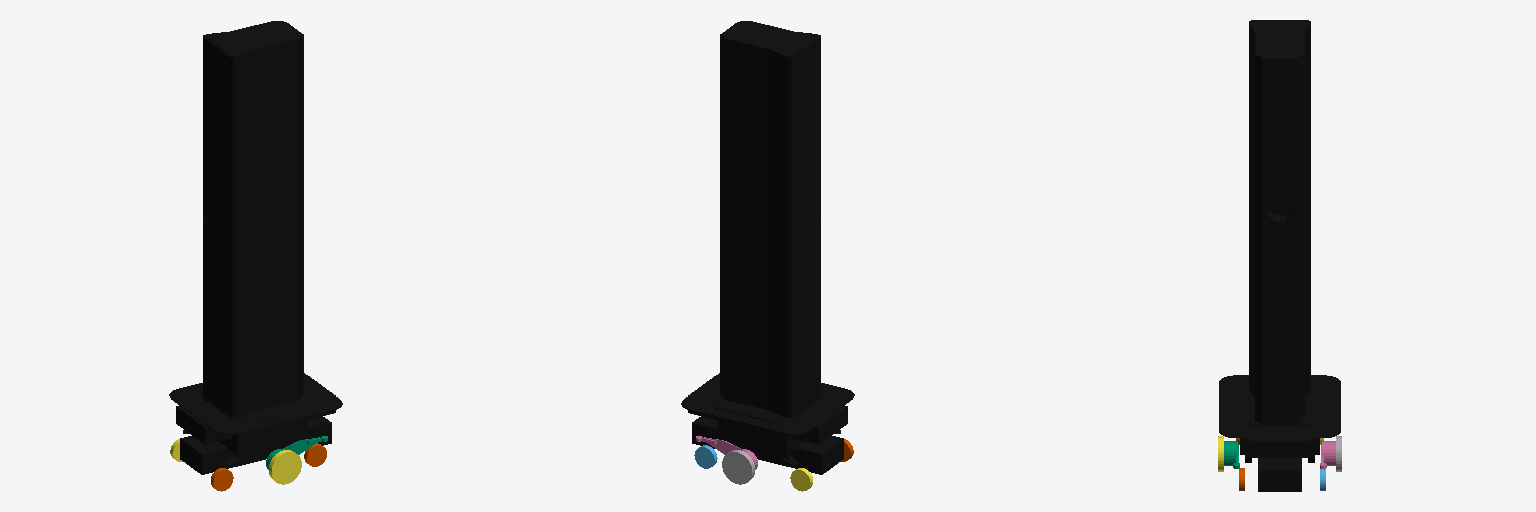
--- Facts derived from the render (not from the file) ---
Views: 3 orthographic renders of the robot side by side, from view 1: azimuth 30°, elevation 25°; view 2: azimuth 150°, elevation 25°; view 3: azimuth 270°, elevation 25°.
Model rb_theron with 34 links and 33 joints (2 revolute, 10 continuous, 21 fixed), rooted at robot_base_footprint, posed all joints at 0.
Visible links, largest first — view 1: robot_pole_link, robot_base_link, robot_right_wheel_link; view 2: robot_pole_link, robot_base_link, robot_left_wheel_link; view 3: robot_pole_link, robot_base_link.
Link boxes in pixels (x1=…): robot_pole_link: x1=199, y1=21, x2=312, y2=423; robot_base_link: x1=169, y1=373, x2=342, y2=474; robot_right_wheel_link: x1=269, y1=450, x2=301, y2=484; robot_pole_link: x1=711, y1=21, x2=824, y2=423; robot_base_link: x1=681, y1=373, x2=854, y2=474; robot_left_wheel_link: x1=722, y1=450, x2=754, y2=484; robot_pole_link: x1=1234, y1=20, x2=1325, y2=425; robot_base_link: x1=1219, y1=375, x2=1340, y2=491.
Bounding box of the posed robot: 0.649 × 0.528 × 2.01 m (x, y, z).
Meshes: 9 distinct files referenced, 4 mesh visuals loaded (2 binary STL, 2 Collada DAE); not drawn: 8 (reference not matched to a file when rendering).

URDF robot description (rb_theron):
<?xml version="1.0" encoding="utf-8"?>
<!-- =================================================================================== -->
<!-- |    This document was autogenerated by xacro from rb_theron_mcq.urdf.xacro       | -->
<!-- |    EDITING THIS FILE BY HAND IS NOT RECOMMENDED                                 | -->
<!-- =================================================================================== -->
<robot name="rb_theron">
  <!-- ***************** -->
  <!-- Imported elements -->
  <!-- ***************** -->
  <!-- First we import all posible elements defined in the urdf.xacro files. All these elements are defined as macro:xacros -->
  <!-- in kg-->
  <!-- in kg-->
  <!-- in kg-->
  <!-- in kg-->
  <!-- in kg-->
  <!-- in kg-->
  <!-- in kg-->
  <!-- source en.wikipedia.org/wiki/List_of_moments_of_inertia-->
  <!-- This file unifies all sensors that can be used on simulation, defined as xacro:macros -->
  <!-- Includes -->
  <!-- *************** -->
  <!-- Robots Elements -->
  <!-- *************** -->
  <!-- Here we create the robot elements using the xacro:macros imported at the beggining of this file -->
  <!-- this property is for the chassis -->
  <!-- xacro:property name="wheel_width" value="0.150" / -->
  <link name="robot_base_footprint">
    <visual>
      <origin rpy="0 0 0" xyz="0 0 0"/>
      <geometry>
        <box size="0.001 0.001 0.001"/>
      </geometry>
    </visual>
  </link>
  <joint name="robot_base_footprint_joint" type="fixed">
    <origin rpy="0 0 0" xyz="0 0 0.0606"/>
    <parent link="robot_base_footprint"/>
    <child link="robot_base_link"/>
  </joint>
  <!-- BASE_LINK -->
  <link name="robot_base_link">
    <inertial>
      <mass value="50.0"/>
      <origin xyz="-0.120 0 0"/>
      <inertia ixx="2.01041666667" ixy="0" ixz="0" iyy="2.55208333333" iyz="0" izz="2.55208333333"/>
    </inertial>
    <visual>
      <origin rpy="0 0 0" xyz="0 0 0"/>
      <geometry>
        <mesh filename="package://rb_theron_description/meshes/bases/theron_base.stl"/>
      </geometry>
      <material name="darkgrey">
        <color rgba="0.1 0.1 0.1 1"/>
      </material>
    </visual>
    <collision>
      <origin rpy="0 0 0 " xyz="0 0 0"/>
      <geometry>
        <!--box size="0.390 0.240 0.165"/-->
        <mesh filename="package://rb_theron_description/meshes/bases/theron_base.stl"/>
      </geometry>
    </collision>
  </link>
  <!-- <link name="${prefix}bottom_cover_link">
      <inertial>
        <mass value="2.0" />
        <origin xyz="0 0 0" />
	    <xacro:box_inertia_robot m="2" x="0.700" y="0.600" z="0.350"/>
      </inertial>
      <visual>
        <origin xyz="0 0 0" rpy="0 0 0" />
        <xacro:if value="${hq}">
          <geometry>
            <mesh filename="package://rb_theron_description/meshes/bases/mcq_prototype_bottom_cover.dae"/>
          </geometry>
        </xacro:if>
        <xacro:unless value="${hq}">
          <geometry>
            <box size="0.700 0.600 0.350"/>
          </geometry>
        </xacro:unless>
        <material name="darkgrey">
          <color rgba="0.1 0.1 0.1 1"/>
        </material>
      </visual>
      <collision>
        <origin xyz="0 0 0" rpy="0 0 0 " />
        <geometry>
          <mesh filename="package://rb_theron_description/meshes/bases/mcq_prototype_bottom_cover.dae"/>
        </geometry>
      </collision>
    </link> -->
  <!-- <joint name="${prefix}bottom_cover_joint" type="fixed">
       <origin rpy="0 0 0" xyz="0 0 0"/>
       <parent link="${prefix}base_link"/>
       <child link="${prefix}bottom_cover_link"/>
    </joint> -->
  <!-- DOCKING CONTACTS -->
  <!--joint name="${prefix}base_docking_joint" type="fixed">
      <origin xyz="0.030 0.000 0.068" rpy="0 0 0 " />
      <parent link="${prefix}front_cover_link"/>
      <child link="${prefix}base_docking_contact_link" />
    </joint-->
  <!-- DOCKING LINK -->
  <!--link name="${prefix}base_docking_contact_link" /-->
  <gazebo>
    <plugin filename="libgazebo_ros_control.so" name="ros_control">
      <!--robotNamespace>/robot</robotNamespace-->
      <robotParam>robot/robot_description</robotParam>
      <controlPeriod>0.001</controlPeriod>
      <robotSimType>gazebo_ros_control/DefaultRobotHWSim</robotSimType>
      <legacyModeNS>true</legacyModeNS>
    </plugin>
  </gazebo>
  <gazebo reference="robot_base_footprint">
    <material>Gazebo/Green</material>
  </gazebo>
  <gazebo reference="robot_base_link">
    <material>Gazebo/Grey</material>
  </gazebo>
  <gazebo reference="robot_front_cover_link">
    <material>Gazebo/Black</material>
  </gazebo>
  <!--ROCKER BOGIE SUPPORT -->
  <!--joint name="${prefix}joint_support" type="continuous">
      <parent link="${parent}"/>
      <child link="${prefix}support"/>
      <insert_block name="origin" />
      <axis xyz="0 1 0" rpy="0 0 ${M_PI}" />
      <limit effort="100" velocity="100"/>
      <joint_properties damping="0.1" friction="0.1"/>
	</joint -->
  <joint name="robot_rightjoint_rsupport" type="revolute">
    <parent link="robot_base_link"/>
    <child link="robot_rightrsupport"/>
    <origin rpy="0 0 0" xyz="0.1175 -0.1725 0.0428"/>
    <axis rpy="0 0 3.14159265359" xyz="0 1 0"/>
    <limit effort="100" lower="-0.5" upper="0.5" velocity="100"/>
    <joint_properties damping="0.1" friction="0.1"/>
  </joint>
  <link name="robot_rightrsupport">
    <visual>
      <origin rpy="0 0 0" xyz="0 0 0"/>
      <geometry>
        <mesh filename="package://rb_theron_description/meshes/rocker/mcq_prototype_rocker_r.dae"/>
      </geometry>
    </visual>
    <collision>
      <origin rpy="0 0 0" xyz="0 0 0"/>
      <geometry>
        <mesh filename="package://rb_theron_description/meshes/rocker/mcq_prototype_rocker_r.dae"/>
      </geometry>
    </collision>
    <inertial>
      <mass value="1.5"/>
      <origin xyz="0 0 0"/>
      <inertia ixx="5e-05" ixy="0" ixz="0" iyy="5e-05" iyz="0" izz="7.5e-05"/>
      <!--Check these values -->
    </inertial>
  </link>
  <!-- Transmission is important to link the joints and the controller -->
  <transmission name="robot_rightrsupport_joint_trans">
    <type>transmission_interface/SimpleTransmission</type>
    <joint name="robot_rightjoint_rsupport">
      <hardwareInterface>hardware_interface/EffortJointInterface</hardwareInterface>
    </joint>
    <actuator name="robot_rightrsupport_joint_motor">
      <mechanicalReduction>1</mechanicalReduction>
      <motorTorqueConstant>1</motorTorqueConstant>
    </actuator>
  </transmission>
  <!-- xacro:rubber_wheel prefix="$(arg prefix)wheel" parent="$(arg prefix)support" reflect="true" hq="${hq}">
		<origin xyz="${wheel_offset_x} ${wheel_offset_y} ${wheel_offset_z}" rpy="0 0 0"/>
	</xacro:rubber_wheel -->
  <!--WHEEL TIRE -->
  <joint name="robot_right_wheel_joint" type="continuous">
    <parent link="robot_rightrsupport"/>
    <child link="robot_right_wheel_link"/>
    <origin rpy="0 0 0" xyz="-0.1175 -0.079 -0.0428"/>
    <axis rpy="0 0 0" xyz="0 1 0"/>
    <limit effort="100" velocity="100"/>
    <joint_properties damping="0.0" friction="0.0"/>
  </joint>
  <link name="robot_right_wheel_link">
    <visual>
      <!-- HIGH RESOLUTION WHEELS -->
      <!-- LOW RESOLUTION WHEELS -->
      <origin rpy="1.57079632679 0 0" xyz="0 0 0"/>
      <geometry>
        <cylinder length="0.025" radius="0.0756"/>
      </geometry>
    </visual>
    <collision>
      <origin rpy="1.57079632679 0 0" xyz="0 0 0"/>
      <geometry>
        <cylinder length="0.025" radius="0.0756"/>
      </geometry>
    </collision>
    <inertial>
      <mass value="0.25"/>
      <origin xyz="0 0 0"/>
      <inertia ixx="0.000370230833333" ixy="0" ixz="0" iyy="0.000370230833333" iyz="0" izz="0.00071442"/>
    </inertial>
  </link>
  <!-- Transmission is important to link the joints and the controller (see rb_theron_control/config/rb_theron_control.yaml)-->
  <transmission name="robot_right_wheel_joint_trans">
    <type>transmission_interface/SimpleTransmission</type>
    <joint name="robot_right_wheel_joint">
      <!-- for the gazebo plugin -->
      <!--hardwareInterface>EffortJointInterface</hardwareInterface-->
      <!-- for ros control controller -->
      <hardwareInterface>hardware_interface/VelocityJointInterface</hardwareInterface>
    </joint>
    <actuator name="robot_right_wheel_joint_motor">
      <mechanicalReduction>1</mechanicalReduction>
      <motorTorqueConstant>20</motorTorqueConstant>
    </actuator>
  </transmission>
  <gazebo reference="robot_right_wheel_link">
    <!-- mu1 value="5.0"/>
			<mu2 value="0.5"/>
			<kp value="10000000.0" />
			<kd value="1.0" />
			<fdir1 value="1 0 0"/>
			<material>Gazebo/Yellow</material>
			<turnGravityOff>false</turnGravityOff -->
    <!-- mu1 value="5.0"/>
			<mu2 value="0.5"/ -->
    <mu1 value="100.0"/>
    <mu2 value="100.0"/>
    <!-- kp value="100000.0" / -->
    <kp value="500000.0"/>
    <kd value="1.0"/>
    <!-- fdir1 value="1 0 0"/ -->
    <material>Gazebo/Yellow</material>
    <turnGravityOff>false</turnGravityOff>
    <!--kp>500000.0</kp>
			<kd>10.0</kd>
			<mu1>10</mu1>
			<mu2>10</mu2>
			<fdir1>1 0 0</fdir1-->
    <!--minDepth>0.001</minDepth-->
    <!--material>Gazebo/Black</material-->
    <!--mu1 value="10"/>
			<mu2 value="5"/>
			<kp value="500000.0" />
			<kd value="10.0" />
			<fdir1 value="1 0 0"/>
			<material>Gazebo/Yellow</material>
			<turnGravityOff>false</turnGravityOff-->
  </gazebo>
  <!--gazebo reference="${name}_wheel_link">
			<kp>500000.0</kp>
			<kd>10.0</kd>
			<mu1>10</mu1>
			<mu2>10</mu2>
			<fdir1>1 0 0</fdir1>
			<maxVel>1.0</maxVel>
			<minDepth>0.003</minDepth>
			<material>Gazebo/Yellow</material>
			<turnGravityOff>false</turnGravityOff>
			<implicitSpringDamper>1</implicitSpringDamper>
		</gazebo-->
  <!-- xacro:caster prefix="$(arg prefix)left" parent="$(arg prefix)support" hq="${hq}">
		<origin xyz="${caster_offset_x} ${caster_offset_y} ${caster_offset_z}" rpy="0 0 0"/>
	</xacro:caster -->
  <!--CASTER SUPPORT -->
  <joint name="robot_rightcastorjoint_support" type="continuous">
    <parent link="robot_rightrsupport"/>
    <child link="robot_rightcastorsupport"/>
    <origin rpy="0 0 0" xyz="0.1175 0.01 0.002"/>
    <axis rpy="0 3.14159265359 0" xyz="0 0 1"/>
    <limit effort="100" velocity="100"/>
    <!-- joint_properties damping="1.5" friction="1.5"/ -->
    <dynamics damping="0" friction="0.01"/>
  </joint>
  <link name="robot_rightcastorsupport">
    <visual>
      <origin rpy="0 0 0" xyz="0 0 0"/>
      <geometry>
        <mesh filename="package://rb_theron_description/meshes/wheels/mcq_prototype_base_castor.dae"/>
      </geometry>
    </visual>
    <collision>
      <origin rpy="0 0 0" xyz="0 0 0"/>
      <geometry>
        <mesh filename="package://rb_theron_description/meshes/wheels/mcq_prototype_base_castor.dae"/>
      </geometry>
    </collision>
    <inertial>
      <mass value="1.5"/>
      <origin xyz="0 0 0"/>
      <inertia ixx="5e-05" ixy="0" ixz="0" iyy="5e-05" iyz="0" izz="7.5e-05"/>
      <!--Check these values -->
    </inertial>
  </link>
  <joint name="robot_rightcastorjoint_wheel" type="continuous">
    <parent link="robot_rightcastorsupport"/>
    <child link="robot_rightcastorwheel"/>
    <origin rpy="0 0 0" xyz="-0.033 0.0 -0.071"/>
    <axis rpy="0 0 0" xyz="0 1 0"/>
    <limit effort="100" velocity="100"/>
    <joint_properties damping="0.1" friction="0.1"/>
  </joint>
  <link name="robot_rightcastorwheel">
    <visual>
      <!-- HIGH RESOLUTION WHEELS -->
      <!-- xacro:if value="${hq}">
          <origin xyz="0 0 0" rpy="0 0 0" />
          <geometry>     
		<mesh filename="package://rb_theron_description/meshes/wheels/mcq_prototype_castor_wheel.dae" />
          </geometry>         
        </xacro:if -->
      <!-- LOW RESOLUTION WHEELS -->
      <!-- xacro:unless value="${hq}" -->
      <origin rpy="1.57079632679 0 0" xyz="0 0 0"/>
      <geometry>
        <cylinder length="0.025" radius="0.05"/>
        <!-- sphere radius="${caster_radius}"/ -->
      </geometry>
      <!-- /xacro:unless -->
    </visual>
    <collision>
      <origin rpy="1.57079632679 0 0" xyz="0 0 0"/>
      <!-- origin xyz="0 0 0" rpy="0 0 0" / -->
      <geometry>
        <!-- mesh filename="package://rb_theron_description/meshes/wheels/mcq_prototype_castor_wheel.dae" / -->
        <cylinder length="0.025" radius="0.05"/>
        <!-- sphere radius="${caster_radius}"/ -->
      </geometry>
      <surface>
        <bounce restitution_coefficient="1"/>
      </surface>
    </collision>
    <inertial>
      <mass value="0.25"/>
      <origin xyz="0 0 0"/>
      <inertia ixx="0.000169270833333" ixy="0" ixz="0" iyy="0.000169270833333" iyz="0" izz="0.0003125"/>
    </inertial>
  </link>
  <!-- Transmission is important to link the joints and the controller -->
  <transmission name="robot_rightcastorsupport_joint_trans">
    <type>transmission_interface/SimpleTransmission</type>
    <joint name="robot_rightcastorjoint_support">
      <hardwareInterface>hardware_interface/EffortJointInterface</hardwareInterface>
    </joint>
    <actuator name="robot_rightcastorsupport_joint_motor">
      <mechanicalReduction>1</mechanicalReduction>
      <motorTorqueConstant>1</motorTorqueConstant>
    </actuator>
  </transmission>
  <transmission name="robot_rightcastorwheel_joint_trans">
    <type>transmission_interface/SimpleTransmission</type>
    <joint name="robot_rightcastorjoint_wheel">
      <hardwareInterface>hardware_interface/EffortJointInterface</hardwareInterface>
    </joint>
    <actuator name="robot_rightcastorwheel_joint_motor">
      <mechanicalReduction>1</mechanicalReduction>
      <motorTorqueConstant>1</motorTorqueConstant>
    </actuator>
  </transmission>
  <!-- gazebo reference="${prefix}support">
			<mu1 value="5.0"/>
			<mu2 value="0.5"/>
			<kp value="10000000.0" />
			<kd value="1.0" />
			<fdir1 value="1 0 0"/>
      <turnGravityOff>false</turnGravityOff>
    </gazebo -->
  <gazebo reference="robot_rightcastor_wheel">
    <mu1 value="100.0"/>
    <mu2 value="100.0"/>
    <!-- kp value="10000000.0" / -->
    <kp value="100000.0"/>
    <kd value="100.0"/>
    <!-- fdir1 value="1 0 0"/ -->
    <material>Gazebo/Black</material>
    <turnGravityOff>false</turnGravityOff>
  </gazebo>
  <!-- gazebo reference="${prefix}support">
			<mu1 value="5.0"/>
			<mu2 value="0.5"/>
			<kp value="10000000.0" />
			<kd value="1.0" />
			<fdir1 value="1 0 0"/>
      <turnGravityOff>false</turnGravityOff>
    </gazebo>
    
     <gazebo reference="${prefix}_wheel">
			<mu1 value="5.0"/>
			<mu2 value="0.5"/>
			<kp value="10000000.0" />
			<kd value="1.0" />
			<fdir1 value="1 0 0"/>
      <turnGravityOff>false</turnGravityOff>
    </gazebo -->
  <!--ROCKER BOGIE SUPPORT -->
  <!--joint name="${prefix}joint_support" type="continuous">
      <parent link="${parent}"/>
      <child link="${prefix}support"/>
      <insert_block name="origin" />
      <axis xyz="0 1 0" rpy="0 0 ${M_PI}" />
      <limit effort="100" velocity="100"/>
      <joint_properties damping="0.1" friction="0.1"/>
	</joint -->
  <joint name="robot_leftjoint_rsupport" type="revolute">
    <parent link="robot_base_link"/>
    <child link="robot_leftrsupport"/>
    <origin rpy="0 0 0" xyz="0.1175 0.1725 0.0428"/>
    <axis rpy="0 0 3.14159265359" xyz="0 1 0"/>
    <limit effort="100" lower="-0.5" upper="0.5" velocity="100"/>
    <joint_properties damping="0.1" friction="0.1"/>
  </joint>
  <link name="robot_leftrsupport">
    <visual>
      <origin rpy="0 0 0" xyz="0 0 0"/>
      <geometry>
        <mesh filename="package://rb_theron_description/meshes/rocker/mcq_prototype_rocker_l.dae"/>
      </geometry>
    </visual>
    <collision>
      <origin rpy="0 0 0" xyz="0 0 0"/>
      <geometry>
        <mesh filename="package://rb_theron_description/meshes/rocker/mcq_prototype_rocker_l.dae"/>
      </geometry>
    </collision>
    <inertial>
      <mass value="1.5"/>
      <origin xyz="0 0 0"/>
      <inertia ixx="5e-05" ixy="0" ixz="0" iyy="5e-05" iyz="0" izz="7.5e-05"/>
      <!--Check these values -->
    </inertial>
  </link>
  <!-- Transmission is important to link the joints and the controller -->
  <transmission name="robot_leftrsupport_joint_trans">
    <type>transmission_interface/SimpleTransmission</type>
    <joint name="robot_leftjoint_rsupport">
      <hardwareInterface>hardware_interface/EffortJointInterface</hardwareInterface>
    </joint>
    <actuator name="robot_leftrsupport_joint_motor">
      <mechanicalReduction>1</mechanicalReduction>
      <motorTorqueConstant>1</motorTorqueConstant>
    </actuator>
  </transmission>
  <!-- xacro:rubber_wheel prefix="$(arg prefix)wheel" parent="$(arg prefix)support" reflect="true" hq="${hq}">
		<origin xyz="${wheel_offset_x} ${wheel_offset_y} ${wheel_offset_z}" rpy="0 0 0"/>
	</xacro:rubber_wheel -->
  <!--WHEEL TIRE -->
  <joint name="robot_left_wheel_joint" type="continuous">
    <parent link="robot_leftrsupport"/>
    <child link="robot_left_wheel_link"/>
    <origin rpy="0 0 0" xyz="-0.1175 0.079 -0.0428"/>
    <axis rpy="0 0 0" xyz="0 1 0"/>
    <limit effort="100" velocity="100"/>
    <joint_properties damping="0.0" friction="0.0"/>
  </joint>
  <link name="robot_left_wheel_link">
    <visual>
      <!-- HIGH RESOLUTION WHEELS -->
      <!-- LOW RESOLUTION WHEELS -->
      <origin rpy="1.57079632679 0 0" xyz="0 0 0"/>
      <geometry>
        <cylinder length="0.025" radius="0.0756"/>
      </geometry>
    </visual>
    <collision>
      <origin rpy="1.57079632679 0 0" xyz="0 0 0"/>
      <geometry>
        <cylinder length="0.025" radius="0.0756"/>
      </geometry>
    </collision>
    <inertial>
      <mass value="0.25"/>
      <origin xyz="0 0 0"/>
      <inertia ixx="0.000370230833333" ixy="0" ixz="0" iyy="0.000370230833333" iyz="0" izz="0.00071442"/>
    </inertial>
  </link>
  <!-- Transmission is important to link the joints and the controller (see rb_theron_control/config/rb_theron_control.yaml)-->
  <transmission name="robot_left_wheel_joint_trans">
    <type>transmission_interface/SimpleTransmission</type>
    <joint name="robot_left_wheel_joint">
      <!-- for the gazebo plugin -->
      <!--hardwareInterface>EffortJointInterface</hardwareInterface-->
      <!-- for ros control controller -->
      <hardwareInterface>hardware_interface/VelocityJointInterface</hardwareInterface>
    </joint>
    <actuator name="robot_left_wheel_joint_motor">
      <mechanicalReduction>1</mechanicalReduction>
      <motorTorqueConstant>20</motorTorqueConstant>
    </actuator>
  </transmission>
  <gazebo reference="robot_left_wheel_link">
    <!-- mu1 value="5.0"/>
			<mu2 value="0.5"/>
			<kp value="10000000.0" />
			<kd value="1.0" />
			<fdir1 value="1 0 0"/>
			<material>Gazebo/Yellow</material>
			<turnGravityOff>false</turnGravityOff -->
    <!-- mu1 value="5.0"/>
			<mu2 value="0.5"/ -->
    <mu1 value="100.0"/>
    <mu2 value="100.0"/>
    <!-- kp value="100000.0" / -->
    <kp value="500000.0"/>
    <kd value="1.0"/>
    <!-- fdir1 value="1 0 0"/ -->
    <material>Gazebo/Yellow</material>
    <turnGravityOff>false</turnGravityOff>
    <!--kp>500000.0</kp>
			<kd>10.0</kd>
			<mu1>10</mu1>
			<mu2>10</mu2>
			<fdir1>1 0 0</fdir1-->
    <!--minDepth>0.001</minDepth-->
    <!--material>Gazebo/Black</material-->
    <!--mu1 value="10"/>
			<mu2 value="5"/>
			<kp value="500000.0" />
			<kd value="10.0" />
			<fdir1 value="1 0 0"/>
			<material>Gazebo/Yellow</material>
			<turnGravityOff>false</turnGravityOff-->
  </gazebo>
  <!--gazebo reference="${name}_wheel_link">
			<kp>500000.0</kp>
			<kd>10.0</kd>
			<mu1>10</mu1>
			<mu2>10</mu2>
			<fdir1>1 0 0</fdir1>
			<maxVel>1.0</maxVel>
			<minDepth>0.003</minDepth>
			<material>Gazebo/Yellow</material>
			<turnGravityOff>false</turnGravityOff>
			<implicitSpringDamper>1</implicitSpringDamper>
		</gazebo-->
  <!-- xacro:caster prefix="$(arg prefix)left" parent="$(arg prefix)support" hq="${hq}">
		<origin xyz="${caster_offset_x} ${caster_offset_y} ${caster_offset_z}" rpy="0 0 0"/>
	</xacro:caster -->
  <!--CASTER SUPPORT -->
  <joint name="robot_leftcastorjoint_support" type="continuous">
    <parent link="robot_leftrsupport"/>
    <child link="robot_leftcastorsupport"/>
    <origin rpy="0 0 0" xyz="0.1175 0.01 0.002"/>
    <axis rpy="0 3.14159265359 0" xyz="0 0 1"/>
    <limit effort="100" velocity="100"/>
    <!-- joint_properties damping="1.5" friction="1.5"/ -->
    <dynamics damping="0" friction="0.01"/>
  </joint>
  <link name="robot_leftcastorsupport">
    <visual>
      <origin rpy="0 0 0" xyz="0 0 0"/>
      <geometry>
        <mesh filename="package://rb_theron_description/meshes/wheels/mcq_prototype_base_castor.dae"/>
      </geometry>
    </visual>
    <collision>
      <origin rpy="0 0 0" xyz="0 0 0"/>
      <geometry>
        <mesh filename="package://rb_theron_description/meshes/wheels/mcq_prototype_base_castor.dae"/>
      </geometry>
    </collision>
    <inertial>
      <mass value="1.5"/>
      <origin xyz="0 0 0"/>
      <inertia ixx="5e-05" ixy="0" ixz="0" iyy="5e-05" iyz="0" izz="7.5e-05"/>
      <!--Check these values -->
    </inertial>
  </link>
  <joint name="robot_leftcastorjoint_wheel" type="continuous">
    <parent link="robot_leftcastorsupport"/>
    <child link="robot_leftcastorwheel"/>
    <origin rpy="0 0 0" xyz="-0.033 0.0 -0.071"/>
    <axis rpy="0 0 0" xyz="0 1 0"/>
    <limit effort="100" velocity="100"/>
    <joint_properties damping="0.1" friction="0.1"/>
  </joint>
  <link name="robot_leftcastorwheel">
    <visual>
      <!-- HIGH RESOLUTION WHEELS -->
      <!-- xacro:if value="${hq}">
          <origin xyz="0 0 0" rpy="0 0 0" />
          <geometry>     
		<mesh filename="package://rb_theron_description/meshes/wheels/mcq_prototype_castor_wheel.dae" />
          </geometry>         
        </xacro:if -->
      <!-- LOW RESOLUTION WHEELS -->
      <!-- xacro:unless value="${hq}" -->
      <origin rpy="1.57079632679 0 0" xyz="0 0 0"/>
      <geometry>
        <cylinder length="0.025" radius="0.05"/>
        <!-- sphere radius="${caster_radius}"/ -->
      </geometry>
      <!-- /xacro:unless -->
    </visual>
    <collision>
      <origin rpy="1.57079632679 0 0" xyz="0 0 0"/>
      <!-- origin xyz="0 0 0" rpy="0 0 0" / -->
      <geometry>
        <!-- mesh filename="package://rb_theron_description/meshes/wheels/mcq_prototype_castor_wheel.dae" / -->
        <cylinder length="0.025" radius="0.05"/>
        <!-- sphere radius="${caster_radius}"/ -->
      </geometry>
      <surface>
        <bounce restitution_coefficient="1"/>
      </surface>
    </collision>
    <inertial>
      <mass value="0.25"/>
      <origin xyz="0 0 0"/>
      <inertia ixx="0.000169270833333" ixy="0" ixz="0" iyy="0.000169270833333" iyz="0" izz="0.0003125"/>
    </inertial>
  </link>
  <!-- Transmission is important to link the joints and the controller -->
  <transmission name="robot_leftcastorsupport_joint_trans">
    <type>transmission_interface/SimpleTransmission</type>
    <joint name="robot_leftcastorjoint_support">
      <hardwareInterface>hardware_interface/EffortJointInterface</hardwareInterface>
    </joint>
    <actuator name="robot_leftcastorsupport_joint_motor">
      <mechanicalReduction>1</mechanicalReduction>
      <motorTorqueConstant>1</motorTorqueConstant>
    </actuator>
  </transmission>
  <transmission name="robot_leftcastorwheel_joint_trans">
    <type>transmission_interface/SimpleTransmission</type>
    <joint name="robot_leftcastorjoint_wheel">
      <hardwareInterface>hardware_interface/EffortJointInterface</hardwareInterface>
    </joint>
    <actuator name="robot_leftcastorwheel_joint_motor">
      <mechanicalReduction>1</mechanicalReduction>
      <motorTorqueConstant>1</motorTorqueConstant>
    </actuator>
  </transmission>
  <!-- gazebo reference="${prefix}support">
			<mu1 value="5.0"/>
			<mu2 value="0.5"/>
			<kp value="10000000.0" />
			<kd value="1.0" />
			<fdir1 value="1 0 0"/>
      <turnGravityOff>false</turnGravityOff>
    </gazebo -->
  <gazebo reference="robot_leftcastor_wheel">
    <mu1 value="100.0"/>
    <mu2 value="100.0"/>
    <!-- kp value="10000000.0" / -->
    <kp value="100000.0"/>
    <kd value="100.0"/>
    <!-- fdir1 value="1 0 0"/ -->
    <material>Gazebo/Black</material>
    <turnGravityOff>false</turnGravityOff>
  </gazebo>
  <!-- gazebo reference="${prefix}support">
			<mu1 value="5.0"/>
			<mu2 value="0.5"/>
			<kp value="10000000.0" />
			<kd value="1.0" />
			<fdir1 value="1 0 0"/>
      <turnGravityOff>false</turnGravityOff>
    </gazebo>
    
     <gazebo reference="${prefix}_wheel">
			<mu1 value="5.0"/>
			<mu2 value="0.5"/>
			<kp value="10000000.0" />
			<kd value="1.0" />
			<fdir1 value="1 0 0"/>
      <turnGravityOff>false</turnGravityOff>
    </gazebo -->
  <!--CASTER SUPPORT -->
  <joint name="robot_leftjoint_support" type="continuous">
    <parent link="robot_base_link"/>
    <child link="robot_leftsupport"/>
    <origin rpy="0 0 0" xyz="-0.235 0.1725 0.0428"/>
    <axis rpy="0 3.14159265359 0" xyz="0 0 1"/>
    <limit effort="100" velocity="100"/>
    <!-- joint_properties damping="1.5" friction="1.5"/ -->
    <dynamics damping="0" friction="0.01"/>
  </joint>
  <link name="robot_leftsupport">
    <visual>
      <origin rpy="0 0 0" xyz="0 0 0"/>
      <geometry>
        <mesh filename="package://rb_theron_description/meshes/wheels/mcq_prototype_base_castor.dae"/>
      </geometry>
    </visual>
    <collision>
      <origin rpy="0 0 0" xyz="0 0 0"/>
      <geometry>
        <mesh filename="package://rb_theron_description/meshes/wheels/mcq_prototype_base_castor.dae"/>
      </geometry>
    </collision>
    <inertial>
      <mass value="1.5"/>
      <origin xyz="0 0 0"/>
      <inertia ixx="5e-05" ixy="0" ixz="0" iyy="5e-05" iyz="0" izz="7.5e-05"/>
      <!--Check these values -->
    </inertial>
  </link>
  <joint name="robot_leftjoint_wheel" type="continuous">
    <parent link="robot_leftsupport"/>
    <child link="robot_leftwheel"/>
    <origin rpy="0 0 0" xyz="-0.033 0.0 -0.071"/>
    <axis rpy="0 0 0" xyz="0 1 0"/>
    <limit effort="100" velocity="100"/>
    <joint_properties damping="0.1" friction="0.1"/>
  </joint>
  <link name="robot_leftwheel">
    <visual>
      <!-- HIGH RESOLUTION WHEELS -->
      <!-- xacro:if value="${hq}">
          <origin xyz="0 0 0" rpy="0 0 0" />
          <geometry>     
		<mesh filename="package://rb_theron_description/meshes/wheels/mcq_prototype_castor_wheel.dae" />
          </geometry>         
        </xacro:if -->
      <!-- LOW RESOLUTION WHEELS -->
      <!-- xacro:unless value="${hq}" -->
      <origin rpy="1.57079632679 0 0" xyz="0 0 0"/>
      <geometry>
        <cylinder length="0.025" radius="0.05"/>
        <!-- sphere radius="${caster_radius}"/ -->
      </geometry>
      <!-- /xacro:unless -->
    </visual>
    <collision>
      <origin rpy="1.57079632679 0 0" xyz="0 0 0"/>
      <!-- origin xyz="0 0 0" rpy="0 0 0" / -->
      <geometry>
        <!-- mesh filename="package://rb_theron_description/meshes/wheels/mcq_prototype_castor_wheel.dae" / -->
        <cylinder length="0.025" radius="0.05"/>
        <!-- sphere radius="${caster_radius}"/ -->
      </geometry>
      <surface>
        <bounce restitution_coefficient="1"/>
      </surface>
    </collision>
    <inertial>
      <mass value="0.25"/>
      <origin xyz="0 0 0"/>
      <inertia ixx="0.000169270833333" ixy="0" ixz="0" iyy="0.000169270833333" iyz="0" izz="0.0003125"/>
    </inertial>
  </link>
  <!-- Transmission is important to link the joints and the controller -->
  <transmission name="robot_leftsupport_joint_trans">
    <type>transmission_interface/SimpleTransmission</type>
    <joint name="robot_leftjoint_support">
      <hardwareInterface>hardware_interface/EffortJointInterface</hardwareInterface>
    </joint>
    <actuator name="robot_leftsupport_joint_motor">
      <mechanicalReduction>1</mechanicalReduction>
      <motorTorqueConstant>1</motorTorqueConstant>
    </actuator>
  </transmission>
  <transmission name="robot_leftwheel_joint_trans">
    <type>transmission_interface/SimpleTransmission</type>
    <joint name="robot_leftjoint_wheel">
      <hardwareInterface>hardware_interface/EffortJointInterface</hardwareInterface>
    </joint>
    <actuator name="robot_leftwheel_joint_motor">
      <mechanicalReduction>1</mechanicalReduction>
      <motorTorqueConstant>1</motorTorqueConstant>
    </actuator>
  </transmission>
  <!-- gazebo reference="${prefix}support">
			<mu1 value="5.0"/>
			<mu2 value="0.5"/>
			<kp value="10000000.0" />
			<kd value="1.0" />
			<fdir1 value="1 0 0"/>
      <turnGravityOff>false</turnGravityOff>
    </gazebo -->
  <gazebo reference="robot_left_wheel">
    <mu1 value="100.0"/>
    <mu2 value="100.0"/>
    <!-- kp value="10000000.0" / -->
    <kp value="100000.0"/>
    <kd value="100.0"/>
    <!-- fdir1 value="1 0 0"/ -->
    <material>Gazebo/Black</material>
    <turnGravityOff>false</turnGravityOff>
  </gazebo>
  <!--CASTER SUPPORT -->
  <joint name="robot_rightjoint_support" type="continuous">
    <parent link="robot_base_link"/>
    <child link="robot_rightsupport"/>
    <origin rpy="0 0 0" xyz="-0.235 -0.1725 0.0428"/>
    <axis rpy="0 3.14159265359 0" xyz="0 0 1"/>
    <limit effort="100" velocity="100"/>
    <!-- joint_properties damping="1.5" friction="1.5"/ -->
    <dynamics damping="0" friction="0.01"/>
  </joint>
  <link name="robot_rightsupport">
    <visual>
      <origin rpy="0 0 0" xyz="0 0 0"/>
      <geometry>
        <mesh filename="package://rb_theron_description/meshes/wheels/mcq_prototype_base_castor.dae"/>
      </geometry>
    </visual>
    <collision>
      <origin rpy="0 0 0" xyz="0 0 0"/>
      <geometry>
        <mesh filename="package://rb_theron_description/meshes/wheels/mcq_prototype_base_castor.dae"/>
      </geometry>
    </collision>
    <inertial>
      <mass value="1.5"/>
      <origin xyz="0 0 0"/>
      <inertia ixx="5e-05" ixy="0" ixz="0" iyy="5e-05" iyz="0" izz="7.5e-05"/>
      <!--Check these values -->
    </inertial>
  </link>
  <joint name="robot_rightjoint_wheel" type="continuous">
    <parent link="robot_rightsupport"/>
    <child link="robot_rightwheel"/>
    <origin rpy="0 0 0" xyz="-0.033 0.0 -0.071"/>
    <axis rpy="0 0 0" xyz="0 1 0"/>
    <limit effort="100" velocity="100"/>
    <joint_properties damping="0.1" friction="0.1"/>
  </joint>
  <link name="robot_rightwheel">
    <visual>
      <!-- HIGH RESOLUTION WHEELS -->
      <!-- xacro:if value="${hq}">
          <origin xyz="0 0 0" rpy="0 0 0" />
          <geometry>     
		<mesh filename="package://rb_theron_description/meshes/wheels/mcq_prototype_castor_wheel.dae" />
          </geometry>         
        </xacro:if -->
      <!-- LOW RESOLUTION WHEELS -->
      <!-- xacro:unless value="${hq}" -->
      <origin rpy="1.57079632679 0 0" xyz="0 0 0"/>
      <geometry>
        <cylinder length="0.025" radius="0.05"/>
        <!-- sphere radius="${caster_radius}"/ -->
      </geometry>
      <!-- /xacro:unless -->
    </visual>
    <collision>
      <origin rpy="1.57079632679 0 0" xyz="0 0 0"/>
      <!-- origin xyz="0 0 0" rpy="0 0 0" / -->
      <geometry>
        <!-- mesh filename="package://rb_theron_description/meshes/wheels/mcq_prototype_castor_wheel.dae" / -->
        <cylinder length="0.025" radius="0.05"/>
        <!-- sphere radius="${caster_radius}"/ -->
      </geometry>
      <surface>
        <bounce restitution_coefficient="1"/>
      </surface>
    </collision>
    <inertial>
      <mass value="0.25"/>
      <origin xyz="0 0 0"/>
      <inertia ixx="0.000169270833333" ixy="0" ixz="0" iyy="0.000169270833333" iyz="0" izz="0.0003125"/>
    </inertial>
  </link>
  <!-- Transmission is important to link the joints and the controller -->
  <transmission name="robot_rightsupport_joint_trans">
    <type>transmission_interface/SimpleTransmission</type>
    <joint name="robot_rightjoint_support">
      <hardwareInterface>hardware_interface/EffortJointInterface</hardwareInterface>
    </joint>
    <actuator name="robot_rightsupport_joint_motor">
      <mechanicalReduction>1</mechanicalReduction>
      <motorTorqueConstant>1</motorTorqueConstant>
    </actuator>
  </transmission>
  <transmission name="robot_rightwheel_joint_trans">
    <type>transmission_interface/SimpleTransmission</type>
    <joint name="robot_rightjoint_wheel">
      <hardwareInterface>hardware_interface/EffortJointInterface</hardwareInterface>
    </joint>
    <actuator name="robot_rightwheel_joint_motor">
      <mechanicalReduction>1</mechanicalReduction>
      <motorTorqueConstant>1</motorTorqueConstant>
    </actuator>
  </transmission>
  <!-- gazebo reference="${prefix}support">
			<mu1 value="5.0"/>
			<mu2 value="0.5"/>
			<kp value="10000000.0" />
			<kd value="1.0" />
			<fdir1 value="1 0 0"/>
      <turnGravityOff>false</turnGravityOff>
    </gazebo -->
  <gazebo reference="robot_right_wheel">
    <mu1 value="100.0"/>
    <mu2 value="100.0"/>
    <!-- kp value="10000000.0" / -->
    <kp value="100000.0"/>
    <kd value="100.0"/>
    <!-- fdir1 value="1 0 0"/ -->
    <material>Gazebo/Black</material>
    <turnGravityOff>false</turnGravityOff>
  </gazebo>
  <joint name="robot_pole_joint" type="fixed">
    <parent link="robot_base_link"/>
    <child link="robot_pole_link"/>
    <origin rpy="0 0 0" xyz="0.0 0.0 0.2208"/>
  </joint>
  <!-- BASE_LINK -->
  <link name="robot_pole_link">
    <inertial>
      <mass value="10.0"/>
      <origin xyz="0 0 0"/>
      <inertia ixx="2.05416666667" ixy="0" ixz="0" iyy="2.05416666667" iyz="0" izz="2.05416666667"/>
    </inertial>
    <visual>
      <origin rpy="0 0 0" xyz="0 0 0"/>
      <!-- in this case change origin -->
      <geometry>
        <!-- <box size="0.25 0.25 1.55"/> -->
        <mesh filename="package://rb_theron_description/meshes/pole/mcq_pole.stl"/>
      </geometry>
      <material name="darkgrey">
        <color rgba="0.1 0.1 0.1 1"/>
      </material>
    </visual>
    <collision>
      <origin rpy="0 0 0 " xyz="0 0 0"/>
      <geometry>
        <!-- <box size="0.25 0.25 1.55"/> -->
        <mesh filename="package://rb_theron_description/meshes/pole/mcq_pole.stl"/>
      </geometry>
    </collision>
  </link>
  <gazebo reference="robot_pole_link">
    <mu1 value="100.0"/>
    <mu2 value="100.0"/>
    <kp value="500000.0"/>
    <kd value="1.0"/>
    <material>Gazebo/Yellow</material>
    <turnGravityOff>false</turnGravityOff>
    <!--kp>500000.0</kp>
			<kd>10.0</kd>
			<mu1>10</mu1>
			<mu2>10</mu2>
			<fdir1>1 0 0</fdir1-->
    <!--minDepth>0.001</minDepth-->
    <!--material>Gazebo/Black</material-->
    <!--mu1 value="10"/>
			<mu2 value="5"/>
			<kp value="500000.0" />
			<kd value="10.0" />
			<fdir1 value="1 0 0"/>
			<material>Gazebo/Yellow</material>
			<turnGravityOff>false</turnGravityOff-->
  </gazebo>
  <!-- camera body, with origin at bottom screw mount -->
  <joint name="robot_front_realsense_camera_camera_joint" type="fixed">
    <origin rpy="0 0 0" xyz="0.3305 0.0 0.1468"/>
    <parent link="robot_base_link"/>
    <child link="robot_front_realsense_camera_camera_link"/>
  </joint>
  <link name="robot_front_realsense_camera_camera_link">
    <visual>
      <!-- origin xyz="0 ${-r430_cam_mount_from_center_offset} ${r430_cam_height/2}" rpy="${M_PI/2} 0 ${M_PI/2}"/ -->
      <origin rpy="0 0 0" xyz="0 -0.0 0"/>
      <geometry>
        <!-- box size="${r430_cam_width} ${r430_cam_height} ${r430_cam_depth}"/ -->
        <mesh filename="package://robotnik_sensors/meshes/intel_r430.dae"/>
      </geometry>
      <material name="aluminum">
        <color rgba="0.5 0.5 0.5 1"/>
      </material>
    </visual>
    <collision>
      <origin rpy="0 0 0" xyz="-0.0125 0.0 0.0"/>
      <geometry>
        <box size="0.025 0.1 0.025"/>
      </geometry>
    </collision>
    <inertial>
      <origin rpy="0 0 0" xyz="-0.0125 0.0 0.0"/>
      <mass value="0.1"/>
      <inertia ixx="7.27083333333e-05" ixy="0" ixz="0" iyy="1.04166666667e-05" iyz="0" izz="7.27083333333e-05"/>
    </inertial>
  </link>
  <!-- camera depth joints and links -->
  <joint name="robot_front_realsense_camera_camera_depth_joint" type="fixed">
    <origin rpy="0 0 0" xyz="0.0 -0.0115 0.0"/>
    <parent link="robot_front_realsense_camera_camera_link"/>
    <child link="robot_front_realsense_camera_camera_depth_frame"/>
  </joint>
  <link name="robot_front_realsense_camera_camera_depth_frame"/>
  <joint name="robot_front_realsense_camera_camera_depth_optical_joint" type="fixed">
    <origin rpy="-1.57079632679 0 -1.57079632679" xyz="0 0 0"/>
    <parent link="robot_front_realsense_camera_camera_depth_frame"/>
    <child link="robot_front_realsense_camera_camera_depth_optical_frame"/>
  </joint>
  <link name="robot_front_realsense_camera_camera_depth_optical_frame"/>
  <!-- camera left IR joints and links -->
  <joint name="robot_front_realsense_camera_camera_left_ir_joint" type="fixed">
    <origin rpy="0 0 0" xyz="0 -0.021 0"/>
    <parent link="robot_front_realsense_camera_camera_depth_frame"/>
    <child link="robot_front_realsense_camera_camera_left_ir_frame"/>
  </joint>
  <link name="robot_front_realsense_camera_camera_left_ir_frame"/>
  <joint name="robot_front_realsense_camera_camera_left_ir_optical_joint" type="fixed">
    <origin rpy="-1.57079632679 0 -1.57079632679" xyz="0 0 0"/>
    <parent link="robot_front_realsense_camera_camera_left_ir_frame"/>
    <child link="robot_front_realsense_camera_camera_left_ir_optical_frame"/>
  </joint>
  <link name="robot_front_realsense_camera_camera_left_ir_optical_frame"/>
  <!-- camera right IR joints and links -->
  <joint name="robot_front_realsense_camera_camera_right_ir_joint" type="fixed">
    <origin rpy="0 0 0" xyz="0 0.029 0"/>
    <parent link="robot_front_realsense_camera_camera_depth_frame"/>
    <child link="robot_front_realsense_camera_camera_right_ir_frame"/>
  </joint>
  <link name="robot_front_realsense_camera_camera_right_ir_frame"/>
  <joint name="robot_front_realsense_camera_camera_right_ir_optical_joint" type="fixed">
    <origin rpy="-1.57079632679 0 -1.57079632679" xyz="0 0 0"/>
    <parent link="robot_front_realsense_camera_camera_right_ir_frame"/>
    <child link="robot_front_realsense_camera_camera_right_ir_optical_frame"/>
  </joint>
  <link name="robot_front_realsense_camera_camera_right_ir_optical_frame"/>
  <!-- camera fisheye joints and links -->
  <joint name="robot_front_realsense_camera_camera_fisheye_joint" type="fixed">
    <origin rpy="0 0 0" xyz="0 0.044 0"/>
    <parent link="robot_front_realsense_camera_camera_depth_frame"/>
    <child link="robot_front_realsense_camera_camera_fisheye_frame"/>
  </joint>
  <link name="robot_front_realsense_camera_camera_fisheye_frame"/>
  <joint name="robot_front_realsense_camera_camera_fisheye_optical_joint" type="fixed">
    <origin rpy="-1.57079632679 0 -1.57079632679" xyz="0 0 0"/>
    <parent link="robot_front_realsense_camera_camera_fisheye_frame"/>
    <child link="robot_front_realsense_camera_camera_fisheye_optical_frame"/>
  </joint>
  <link name="robot_front_realsense_camera_camera_fisheye_optical_frame"/>
  <!-- gazebo reference="${prefix}_rgb_base_link" -->
  <gazebo reference="robot_front_realsense_camera_camera_link">
    <sensor name="robot_front_realsense_camera_depth_sensor" type="depth">
      <always_on>true</always_on>
      <update_rate>15.0</update_rate>
      <camera>
        <horizontal_fov>1.59174027782</horizontal_fov>
        <image>
          <format>R8G8B8</format>
          <width>640</width>
          <height>480</height>
        </image>
        <clip>
          <near>0.3</near>
          <far>10.0</far>
        </clip>
      </camera>
      <plugin filename="libgazebo_ros_openni_kinect.so" name="robot_front_realsense_camera_controller">
        <cameraName>front_realsense_camera</cameraName>
        <alwaysOn>true</alwaysOn>
        <updateRate>10</updateRate>
        <imageTopicName>rgb/image_raw</imageTopicName>
        <depthImageTopicName>depth/image_raw</depthImageTopicName>
        <pointCloudTopicName>depth/points</pointCloudTopicName>
        <cameraInfoTopicName>rgb/camera_info</cameraInfoTopicName>
        <depthImageCameraInfoTopicName>depth/camera_info</depthImageCameraInfoTopicName>
        <frameName>/robot_front_realsense_camera_camera_depth_optical_frame</frameName>
        <baseline>0.1</baseline>
        <distortion_k1>0.0</distortion_k1>
        <distortion_k2>0.0</distortion_k2>
        <distortion_k3>0.0</distortion_k3>
        <distortion_t1>0.0</distortion_t1>
        <distortion_t2>0.0</distortion_t2>
        <pointCloudCutoff>0.4</pointCloudCutoff>
      </plugin>
    </sensor>
  </gazebo>
  <joint name="robot_front_rgbd_camera_joint" type="fixed">
    <origin rpy="0 0 0" xyz="0.3305 0.0 0.1898"/>
    <parent link="robot_base_link"/>
    <child link="robot_front_rgbd_camera_link"/>
  </joint>
  <link name="robot_front_rgbd_camera_link">
    <visual>
      <origin rpy="0 0 0" xyz="0 0 0"/>
      <geometry>
        <mesh filename="package://robotnik_sensors/meshes/orbbec_astra.dae"/>
      </geometry>
    </visual>
    <collision>
      <geometry>
        <mesh filename="package://robotnik_sensors/meshes/orbbec_astra.dae"/>
      </geometry>
    </collision>
    <inertial>
      <mass value="0.001"/>
      <origin xyz="0.0 0.0 0.0"/>
      <inertia ixx="2.34375e-06" ixy="0" ixz="0" iyy="2.08333333333e-07" iyz="0" izz="2.40208333333e-06"/>
    </inertial>
  </link>
  <joint name="robot_front_rgbd_camera_rgb_joint" type="fixed">
    <origin rpy="0.0 0.0 0.0" xyz="0.0 0.0125 0.0150"/>
    <parent link="robot_front_rgbd_camera_link"/>
    <child link="robot_front_rgbd_camera_rgb_frame"/>
  </joint>
  <link name="robot_front_rgbd_camera_rgb_frame">
    <inertial>
      <mass value="0.297"/>
      <origin xyz="-0.02 -0.0125 0.0"/>
      <inertia ixx="0.00069609375" ixy="0" ixz="0" iyy="6.1875e-05" iyz="0" izz="0.00071341875"/>
    </inertial>
  </link>
  <joint name="robot_front_rgbd_camera_rgb_optical_joint" type="fixed">
    <origin rpy="-1.57079632679 0 -1.57079632679" xyz="0.0 0.0 0.0"/>
    <parent link="robot_front_rgbd_camera_rgb_frame"/>
    <child link="robot_front_rgbd_camera_rgb_optical_frame"/>
  </joint>
  <link name="robot_front_rgbd_camera_rgb_optical_frame">
    <inertial>
      <mass value="0.001"/>
      <origin rpy="1.57079632679 0 1.57079632679" xyz="0 0 0"/>
      <inertia ixx="2.34375e-06" ixy="0" ixz="0" iyy="2.08333333333e-07" iyz="0" izz="2.40208333333e-06"/>
    </inertial>
  </link>
  <joint name="robot_front_rgbd_camera_depth_joint" type="fixed">
    <origin rpy="0 0 0" xyz="0.0 0.0375 0.0150"/>
    <parent link="robot_front_rgbd_camera_link"/>
    <child link="robot_front_rgbd_camera_depth_frame"/>
  </joint>
  <link name="robot_front_rgbd_camera_depth_frame">
    <inertial>
      <mass value="0.001"/>
      <origin xyz="0 0 0"/>
      <inertia ixx="2.34375e-06" ixy="0" ixz="0" iyy="2.08333333333e-07" iyz="0" izz="2.40208333333e-06"/>
    </inertial>
  </link>
  <joint name="robot_front_rgbd_camera_depth_optical_joint" type="fixed">
    <origin rpy="-1.57079632679 0 -1.57079632679" xyz="0 0 0"/>
    <parent link="robot_front_rgbd_camera_depth_frame"/>
    <child link="robot_front_rgbd_camera_depth_optical_frame"/>
  </joint>
  <link name="robot_front_rgbd_camera_depth_optical_frame">
    <inertial>
      <mass value="0.001"/>
      <origin xyz="0 0 0"/>
      <inertia ixx="2.34375e-06" ixy="0" ixz="0" iyy="2.08333333333e-07" iyz="0" izz="2.40208333333e-06"/>
    </inertial>
  </link>
  <gazebo reference="robot_front_rgbd_camera_link">
    <sensor name="robot_front_rgbd_camera_depth_sensor" type="depth">
      <always_on>true</always_on>
      <update_rate>20.0</update_rate>
      <camera>
        <horizontal_fov>1.0471975512</horizontal_fov>
        <image>
          <format>R8G8B8</format>
          <width>640</width>
          <height>480</height>
        </image>
        <clip>
          <near>0.05</near>
          <far>3.5</far>
        </clip>
      </camera>
      <plugin filename="libgazebo_ros_openni_kinect.so" name="robot_front_rgbd_camera_controller">
        <cameraName>front_rgbd_camera</cameraName>
        <alwaysOn>true</alwaysOn>
        <updateRate>10</updateRate>
        <imageTopicName>rgb/image_raw</imageTopicName>
        <depthImageTopicName>depth/image_raw</depthImageTopicName>
        <pointCloudTopicName>depth/points</pointCloudTopicName>
        <cameraInfoTopicName>rgb/camera_info</cameraInfoTopicName>
        <depthImageCameraInfoTopicName>depth/camera_info</depthImageCameraInfoTopicName>
        <frameName>/robot_front_rgbd_camera_depth_optical_frame</frameName>
        <baseline>0.1</baseline>
        <distortion_k1>0.0</distortion_k1>
        <distortion_k2>0.0</distortion_k2>
        <distortion_k3>0.0</distortion_k3>
        <distortion_t1>0.0</distortion_t1>
        <distortion_t2>0.0</distortion_t2>
        <pointCloudCutoff>0.4</pointCloudCutoff>
      </plugin>
    </sensor>
  </gazebo>
  <joint name="robot_imu_joint" type="fixed">
    <axis xyz="1 0 0"/>
    <!--origin xyz="0 0 0.2825"/-->
    <origin rpy="0 0 0" xyz="-0.1975 0.0 0.1598"/>
    <parent link="robot_base_link"/>
    <child link="robot_imu_link"/>
  </joint>
  <link name="robot_imu_link">
    <inertial>
      <origin rpy="0 0 0" xyz="0.0 0 0.01"/>
      <mass value="0.05"/>
      <inertia ixx="3.33333333333e-06" ixy="0" ixz="0" iyy="3.33333333333e-06" iyz="0" izz="3.33333333333e-06"/>
    </inertial>
    <visual>
      <origin rpy="0 0 0" xyz="0 0 0"/>
      <geometry>
        <box size="0.001 0.001 0.001"/>
      </geometry>
    </visual>
    <collision>
      <origin rpy="0 0 0" xyz="0 0 0"/>
      <geometry>
        <box size=".001 .001 .001"/>
      </geometry>
    </collision>
  </link>
  <gazebo>
    <plugin filename="libhector_gazebo_ros_imu.so" name="robot_imu_controller">
      <alwaysOn>true</alwaysOn>
      <topicName>imu/data</topicName>
      <serviceName>robot_imuimu/service</serviceName>
      <bodyName>robot_imu_link</bodyName>
      <frameId>robot_imu_link</frameId>
      <updateRate>50.0</updateRate>
      <gaussianNoise>0.00</gaussianNoise>
      <yawOffset>0.0</yawOffset>
      <yawDrift>0.0</yawDrift>
      <yawGaussianNoise>0.0</yawGaussianNoise>
      <!-- angular velocities parameters -->
      <rateOffset>0.0 0.0 0.0</rateOffset>
      <rateDrift>0.0 0.0 0.0</rateDrift>
      <rateGaussianNoise>0.0 0.0 0.0</rateGaussianNoise>
      <!-- linear accelerations parameters -->
      <accelOffset>0.0 0.0 0.0</accelOffset>
      <accelDrift>0.0 0.0 0.0</accelDrift>
      <accelGaussianNoise>0.0 0.0 0.0</accelGaussianNoise>
    </plugin>
  </gazebo>
  <joint name="robot_lidar_3d_base_joint" type="fixed">
    <origin rpy="0 -1.5707 3.1416" xyz="0.132 0.0 1.003"/>
    <parent link="robot_pole_link"/>
    <child link="robot_lidar_3d_base_link"/>
  </joint>
  <link name="robot_lidar_3d_base_link">
    <visual>
      <!-- origin xyz="0 0 0" rpy="0 0 1.5708"/ -->
      <origin rpy="0 0 0" xyz="0 0 0"/>
      <geometry>
        <mesh filename="package://robotnik_sensors/meshes/rs_bpearl.stl"/>
      </geometry>
      <material name="blackgray_color">
        <color rgba="0.25 0.25 0.25 1"/>
      </material>
    </visual>
    <collision>
      <origin rpy="0 0 0" xyz="0 0 0"/>
      <geometry>
        <mesh filename="package://robotnik_sensors/meshes/rs_bpearl.stl"/>
      </geometry>
    </collision>
    <inertial>
      <!-- The following are not reliable values, and should not be used for modeling -->
      <mass value="0.92"/>
      <origin xyz="0 0 0.055"/>
      <inertia ixx="0.00187227666667" ixy="0" ixz="0" iyy="0.00187227666667" iyz="0" izz="0.00188922"/>
    </inertial>
  </link>
  <joint name="robot_lidar_3d_joint" type="fixed">
    <parent link="robot_lidar_3d_base_link"/>
    <child link="robot_lidar_3d_link"/>
    <origin rpy="0 0 0" xyz="0 0 0.09427"/>
  </joint>
  <link name="robot_lidar_3d_link"/>
  <gazebo reference="robot_lidar_3d_base_link">
    <visual>
      <material>
        <ambient>0.5 0.5 0.5 1.0</ambient>
        <diffuse>0.250754 0.250754 0.250754 1.0</diffuse>
        <specular>0.2508273 0.2508273 0.2508273 1.0</specular>
        <emissive>0.0 0.0 0.0 0.0</emissive>
      </material>
    </visual>
  </gazebo>
  <gazebo reference="robot_lidar_3d_link">
    <visual>
      <material>
        <ambient>1.2 0.2 0.2 1.0</ambient>
        <diffuse>0.250754 0.250754 0.250754 1.0</diffuse>
        <specular>0.2508273 0.2508273 0.2508273 1.0</specular>
        <emissive>0.0 0.0 0.0 0.0</emissive>
      </material>
    </visual>
    <sensor name="robot_lidar_3d_sensor" type="gpu_ray">
      <pose>0 0 0 0 0 0.0</pose>
      <visualize>false</visualize>
      <update_rate>20.0</update_rate>
      <ray>
        <scan>
          <horizontal>
            <!-- for a high quality simulation -->
            <samples>900</samples>
            <min_angle>-3.14159265359</min_angle>
            <max_angle>3.14159265359</max_angle>
          </horizontal>
          <vertical>
            <samples>32</samples>
            <min_angle>-0.0872664625997</min_angle>
            <!-- bpearl has 90 degrees of vertical field of view-->
            <max_angle> 1.4835298642</max_angle>
          </vertical>
        </scan>
        <range>
          <min>0.1</min>
          <max>30.0</max>
          <resolution>0.01</resolution>
        </range>
        <noise>
          <type>none</type>
        </noise>
      </ray>
      <plugin filename="libgazebo_ros_velodyne_gpu_laser.so" name="robot_lidar_3d_controller">
        <topicName>lidar_3d/points</topicName>
        <frameName>/robot_lidar_3d_link</frameName>
        <gaussianNoise>0.008</gaussianNoise>
      </plugin>
    </sensor>
  </gazebo>
  <joint name="robot_front_laser_base_joint" type="fixed">
    <origin rpy="0 3.1416 3.1416" xyz="0.250 0.0 0.1643"/>
    <parent link="robot_base_link"/>
    <child link="robot_front_laser_base_link"/>
  </joint>
  <link name="robot_front_laser_base_link">
    <collision>
      <origin rpy="0 0 0" xyz="0 0 0"/>
      <geometry>
        <!--<box size="0.106 0.094 0.152"/>-->
        <!--<cylinder radius="0.058" length="0.152"/>-->
        <mesh filename="package://robotnik_sensors/meshes/sick_nanoscan3.stl"/>
      </geometry>
    </collision>
    <visual>
      <origin rpy="0 0 0" xyz="0 0 0"/>
      <geometry>
        <mesh filename="package://robotnik_sensors/meshes/sick_nanoscan3.stl"/>
      </geometry>
    </visual>
    <inertial>
      <mass value="0.67"/>
      <origin rpy="0 0 0" xyz="0 0 0.04"/>
      <inertia ixx="0.000922386766667" ixy="0" ixz="0" iyy="0.000922386766667" iyz="0" izz="0.00113010686667"/>
      <!-- Datasheet dimensional drawing: 100.6 mm x 100.6 mm x 80 mm without connectors -->
    </inertial>
  </link>
  <joint name="robot_front_laser_joint" type="fixed">
    <parent link="robot_front_laser_base_link"/>
    <child link="robot_front_laser_link"/>
    <origin rpy="0 0 0" xyz="0.0 0 0.0505"/>
  </joint>
  <link name="robot_front_laser_link"/>
  <gazebo reference="robot_front_laser_link">
    <sensor name="robot_front_laser_sensor" type="gpu_ray">
      <pose>0 0 0 0 0 0</pose>
      <visualize>false</visualize>
      <update_rate>12.5</update_rate>
      <ray>
        <scan>
          <horizontal>
            <samples>1618</samples>
            <resolution>1</resolution>
            <min_angle>-2.0507619</min_angle>
            <max_angle>2.0507619</max_angle>
          </horizontal>
        </scan>
        <range>
          <min>0.065</min>
          <max>40.0</max>
          <!-- 3m protective, 10 warning, 40 measurement -->
          <resolution>0.07</resolution>
          <!-- Resolution is configurable 20 mm 30 mm 40 mm 50 mm 60 mm 70 mm 150 mm 200 mm, reglamentary resolution is 70 mm -->
        </range>
        <noise>
          <type>gaussian</type>
          <mean>0.0</mean>
          <stddev>0.03</stddev>
        </noise>
      </ray>
      <plugin filename="libgazebo_ros_gpu_laser.so" name="robot_front_laser_controller">
        <topicName>front_laser/scan</topicName>
        <frameName>/robot_front_laser_link</frameName>
        <!-- if not global (leading /) sets the current namespace as a prefix (/ns/name_laser_link) -->
      </plugin>
    </sensor>
  </gazebo>
</robot>
